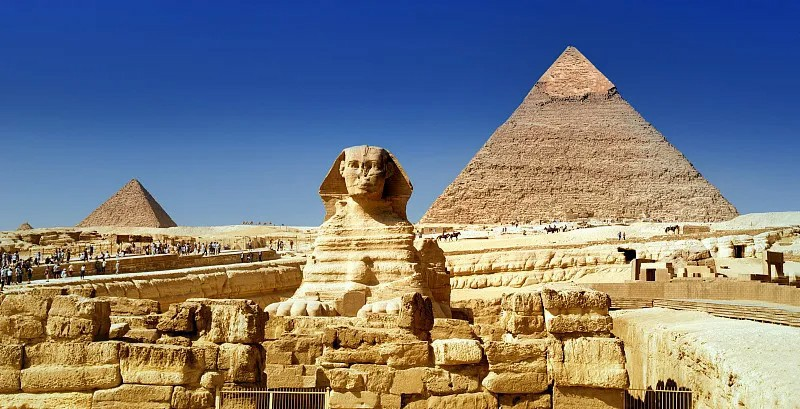Pyramid: (417, 46, 740, 224), (78, 180, 177, 228)
